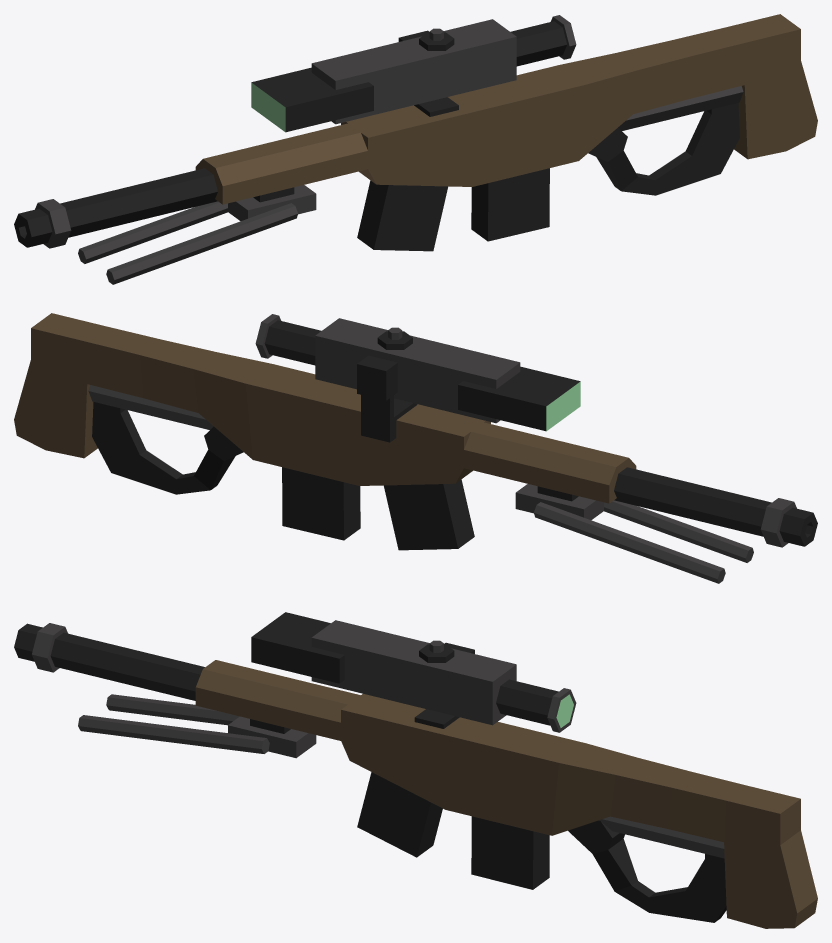
File: rifle.glb
3 renders of one model, top to bottom at view 1: azimuth 30°, elevation 25°; view 2: azimuth 150°, elevation 25°; view 3: azimuth 330°, elevation 25°, orthographic.
Visible parts, largest first — view 1: Cylinder.058; view 2: Cylinder.058; view 3: Cylinder.058.
Boxes of the visible parts, bbox=[...] form: Cylinder.058: bbox=[14, 14, 817, 284]; Cylinder.058: bbox=[14, 313, 817, 583]; Cylinder.058: bbox=[14, 612, 817, 928].
Size of the model in its own units: 52.33 by 13.7 by 4.83.
